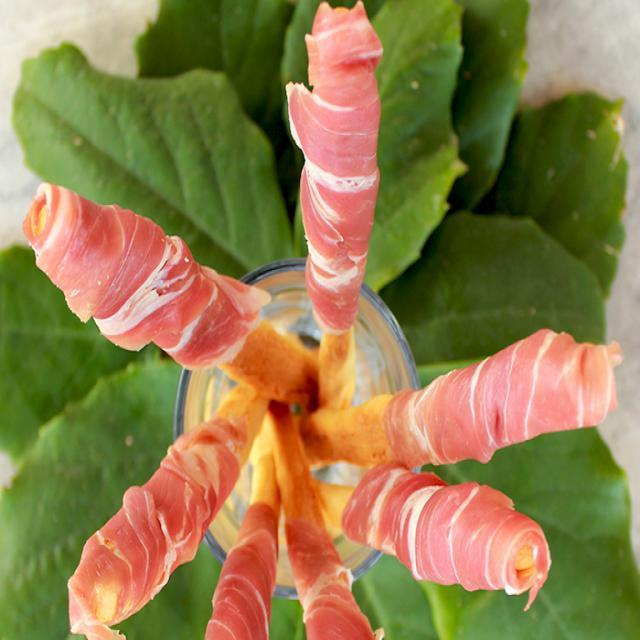Grissini: (23, 10, 612, 631)
